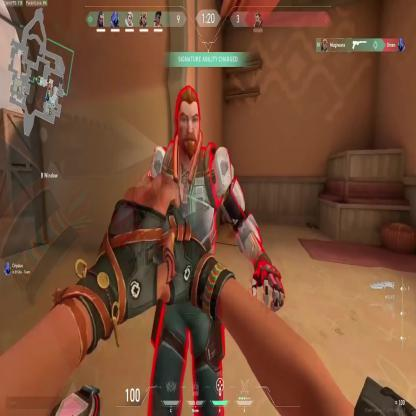enemy: (132, 82, 286, 416)
enemy_head: (170, 82, 204, 162)
